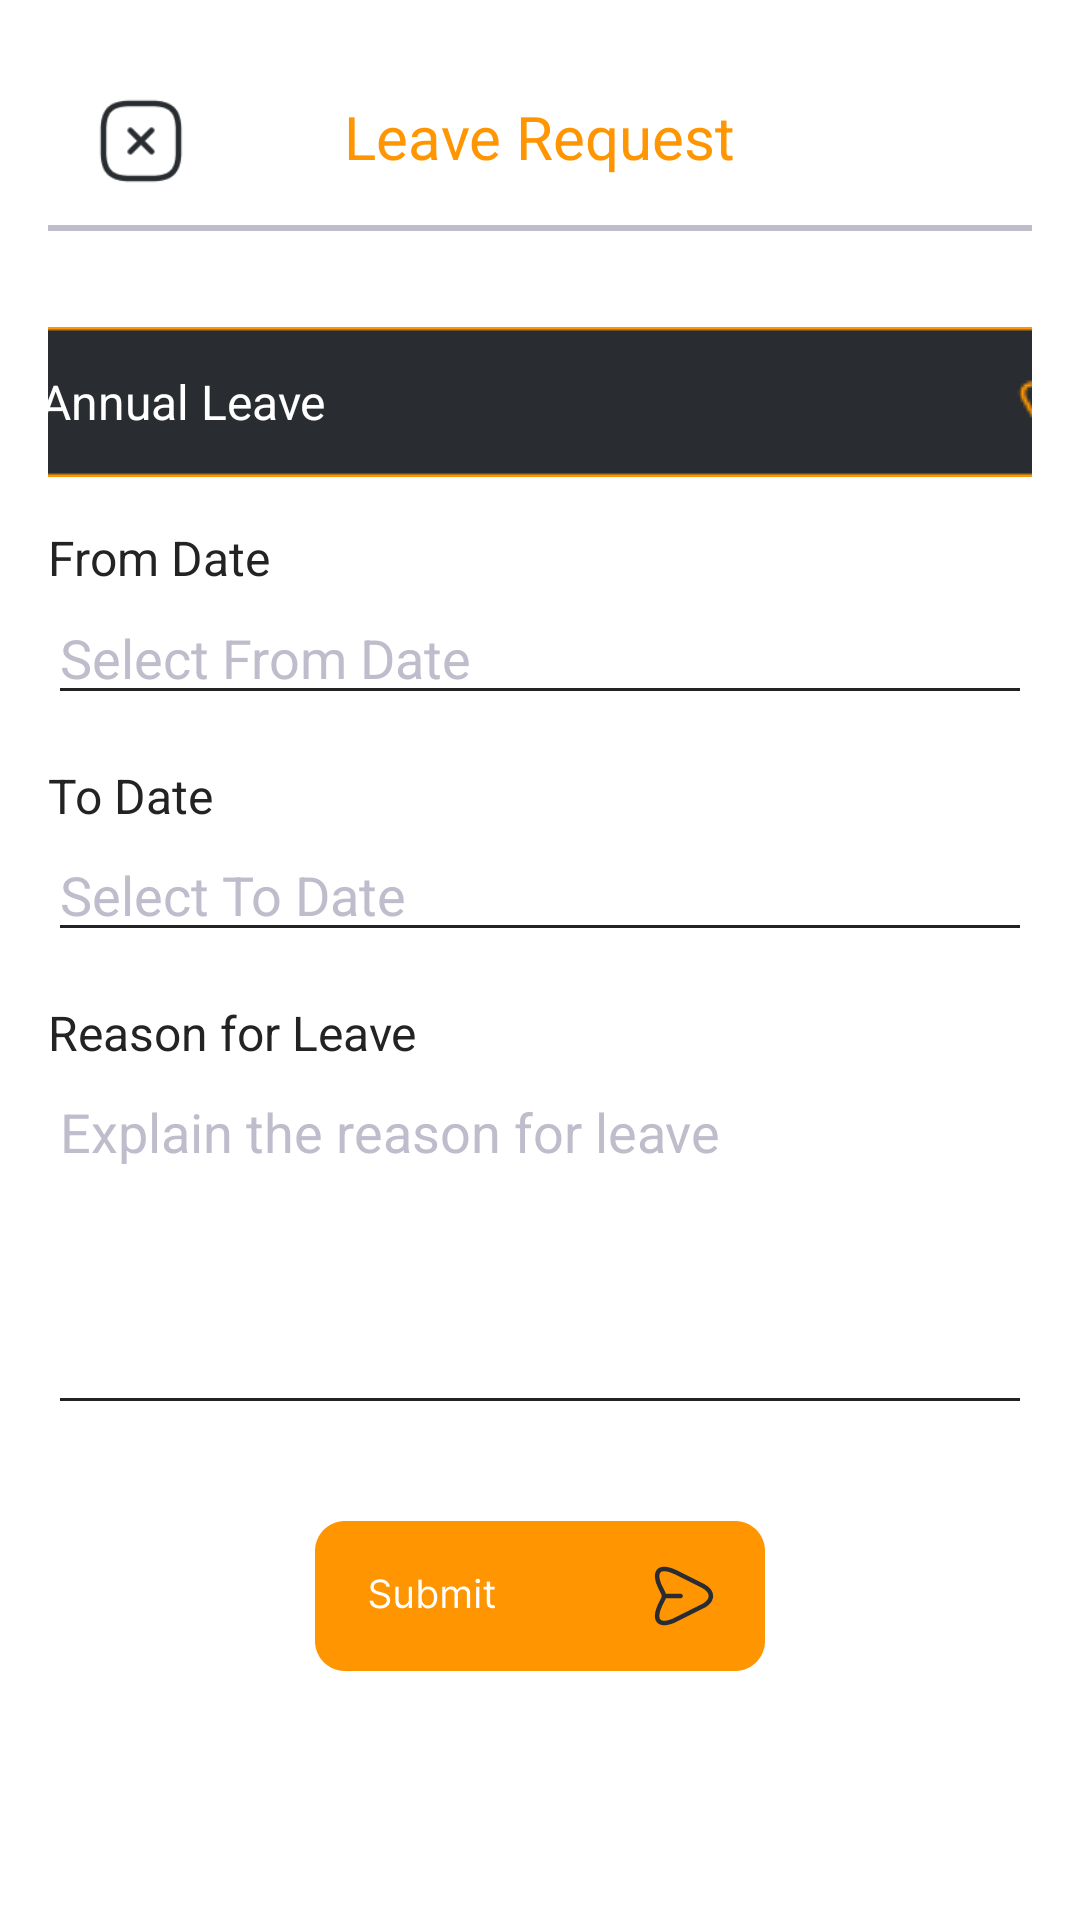

Icons on this 1080px×1920px Android screen, each with the point to tap as [x,y]:
close: [141,141]
